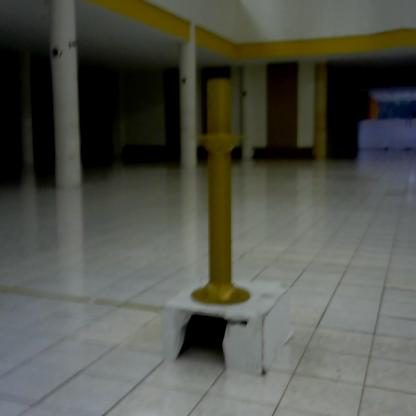pole: (188, 75, 258, 312)
